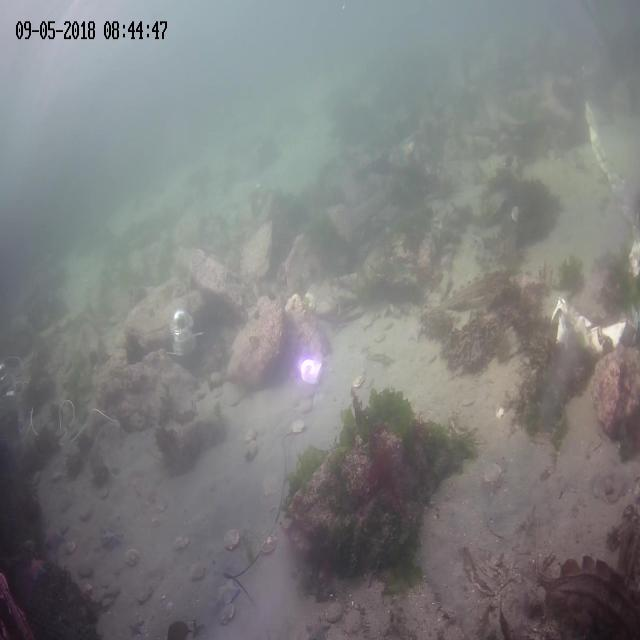scallop: (260, 535, 278, 557), (220, 605, 238, 624), (223, 528, 240, 546), (188, 560, 205, 578), (125, 546, 137, 567), (172, 534, 186, 546), (245, 426, 256, 438), (352, 372, 364, 382)
starfish: (96, 526, 121, 552), (305, 614, 330, 640), (214, 578, 236, 606), (405, 321, 421, 341)
